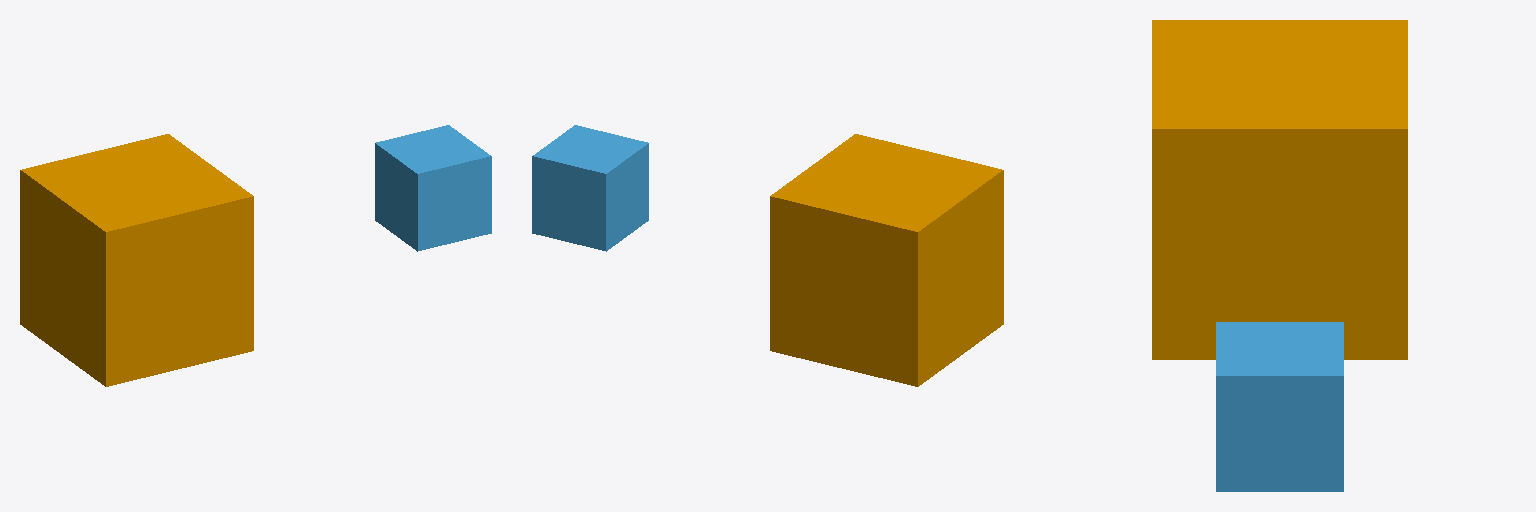
The robot description file, URDF, robot "joint_axis_0":
<robot name="joint_axis_0">
  <link name="BaseLink">
    <visual>
      <origin rpy="0 0 0" xyz="-2 0 0.5"/>
      <geometry>
        <box size="1 1 1"/>
      </geometry>
    </visual>
  </link>

  <link name="link2">
    <visual>
      <origin rpy="0 0 0" xyz="0 0 0.5"/>
      <geometry>
        <box size="0.5 0.5 0.5"/>
      </geometry>
    </visual>
  </link>

  <!-- This is a deliberate mistake. -->
  <!-- The axis xyz is (0, 0, 0). -->
  <joint name="JointA" type="revolute">
    <parent link="BaseLink"/>
    <child link="link2" />
    <axis xyz="0 0 0"/>
    <limit lower="-20" upper="20"/>
  </joint>
</robot>

--- What the picture shows (computed from the rendered views, not written in the file) ---
The picture shows the robot from 3 angles, left to right: view 1: azimuth 30°, elevation 25°; view 2: azimuth 150°, elevation 25°; view 3: azimuth 270°, elevation 25°; orthographic projection.
Robot: joint_axis_0 — 2 links, 1 joints (1 revolute); root link BaseLink; default pose: every joint at zero.
Links seen in each view (by area): view 1: BaseLink, link2; view 2: BaseLink, link2; view 3: BaseLink, link2.
Boxes of the visible links, x1,y1,x2,y2 form: BaseLink: [20, 134, 253, 386]; link2: [375, 125, 491, 251]; BaseLink: [770, 134, 1003, 386]; link2: [532, 125, 648, 251]; BaseLink: [1152, 20, 1407, 359]; link2: [1216, 322, 1343, 491].
Bounding box of the posed robot: 2.75 × 1 × 1 m (x, y, z).
Geometry: primitives only (box / cylinder / sphere), no mesh files.